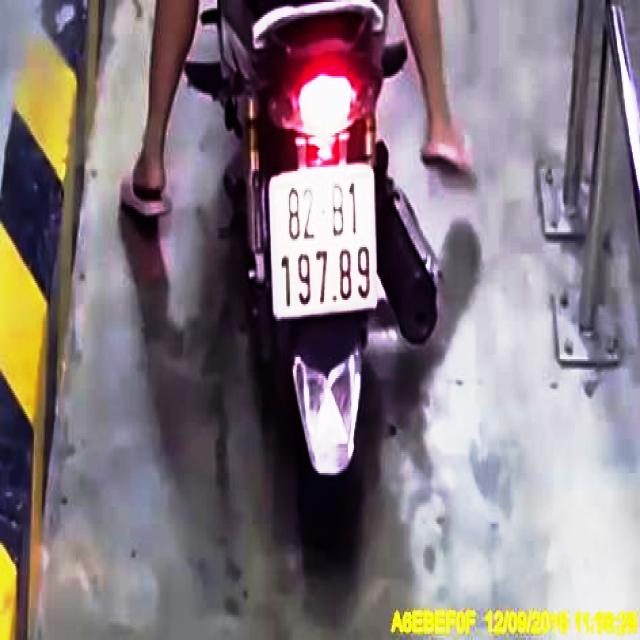license_plate: (273, 174, 376, 322)
